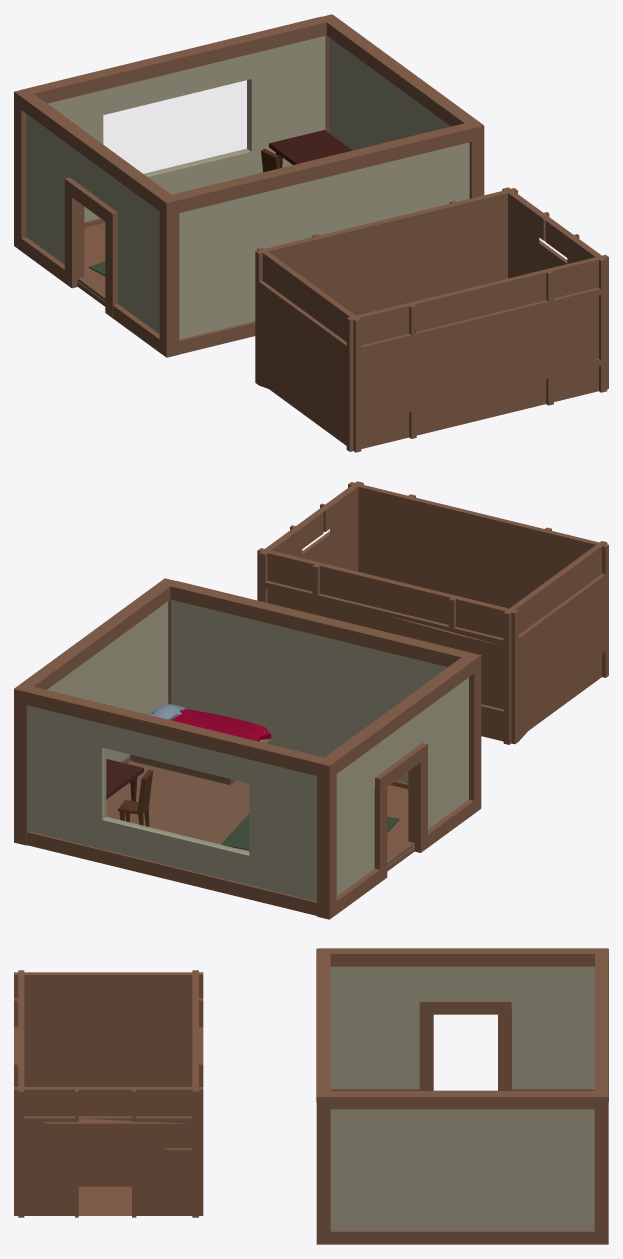
The model's file is House.fbx.
The picture shows the model from 3 angles, top to bottom: view 1: azimuth 30°, elevation 25°; view 2: azimuth 150°, elevation 25°; view 3: azimuth 270°, elevation 25°; orthographic projection. The views are drawn at different scales.
Parts seen in each view (by area): view 1: pCube1, pCube3, pCube4, pCube5, pCube6, polySurface13, polySurface14, polySurface15, polySurface16, polySurface8, polySurface1, polySurface4 (+8 smaller); view 2: pCube1, pCube4, pCube3, pCube5, pCube7, pCube6, polySurface14, polySurface13, polySurface5, polySurface15, polySurface16, polySurface4 (+12 smaller); view 3: pCube1, pCube6, pCube5, polySurface16, polySurface15, polySurface12, polySurface13, polySurface10, polySurface11, polySurface14, polySurface2, polySurface3 (+1 smaller).
Part boxes in pixels (x1,y1,x2,y2): pCube1: [255, 187, 608, 452]; pCube3: [179, 142, 469, 339]; pCube4: [48, 36, 325, 221]; pCube5: [26, 114, 159, 333]; pCube6: [329, 37, 450, 150]; polySurface13: [165, 123, 472, 212]; polySurface14: [19, 16, 327, 103]; polySurface15: [14, 89, 177, 215]; polySurface16: [320, 14, 483, 128]; polySurface8: [159, 200, 179, 357]; polySurface1: [64, 189, 84, 288]; polySurface4: [14, 91, 26, 250]; pCube1: [257, 481, 608, 744]; pCube4: [28, 705, 316, 901]; pCube3: [172, 600, 447, 783]; pCube5: [336, 677, 468, 895]; pCube7: [106, 761, 414, 871]; pCube6: [47, 601, 168, 761]; polySurface14: [25, 686, 331, 775]; polySurface13: [170, 581, 475, 666]; polySurface5: [27, 831, 316, 915]; polySurface15: [318, 654, 480, 778]; polySurface16: [14, 578, 175, 691]; polySurface4: [317, 763, 336, 919]; pCube1: [14, 970, 203, 1217]; pCube6: [330, 1109, 594, 1230]; pCube5: [330, 966, 594, 1088]; polySurface16: [317, 1091, 607, 1109]; polySurface15: [318, 948, 607, 966]; polySurface12: [330, 1230, 594, 1244]; polySurface13: [316, 950, 330, 1091]; polySurface10: [316, 1092, 330, 1244]; polySurface11: [594, 1092, 608, 1244]; polySurface14: [595, 950, 608, 1091]; polySurface2: [419, 1001, 511, 1014]; polySurface3: [419, 1010, 433, 1090].
Bounding box in the file's own units: 25.27 × 11.74 × 42.76.
